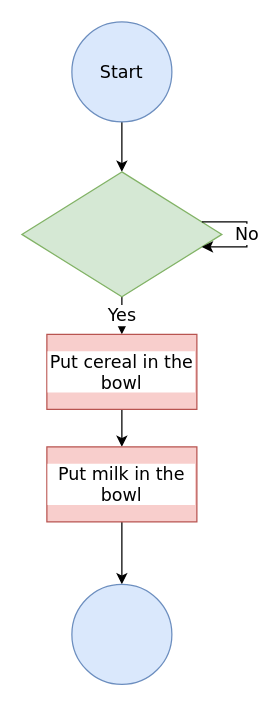
This 280x706 diagram has some shape labels left out. Each missing label, with the centre of its shape:
"Finish" belongs at point 121,633.
"Get a bowl, cereal and milk" belongs at point 121,234.
